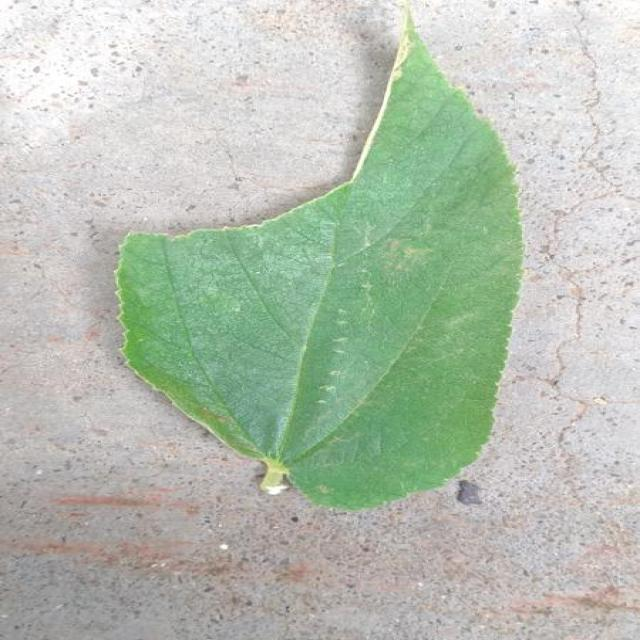gasagase: (117, 10, 523, 508)
